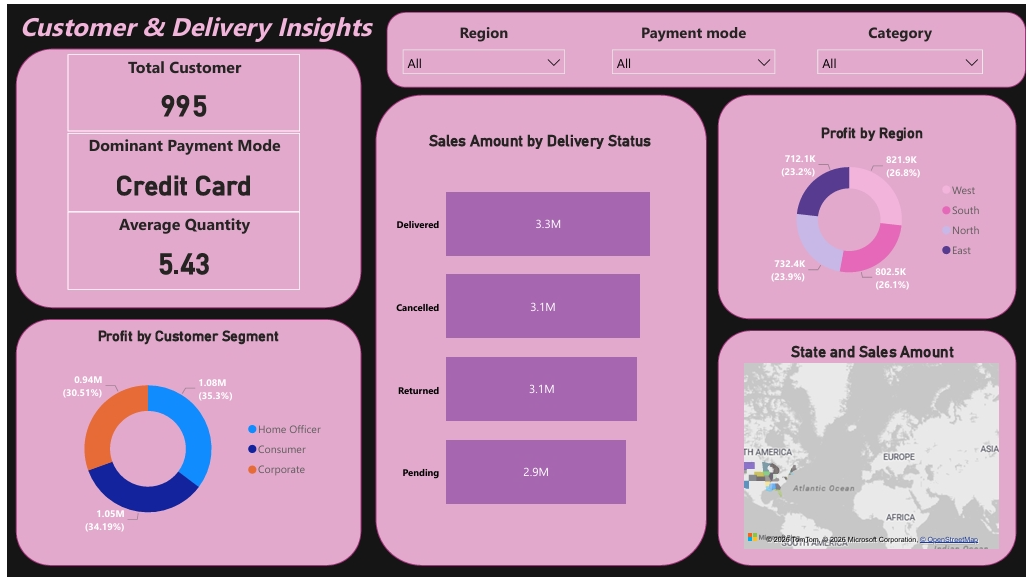

Layout of this report page (visuals, bound fields, positions):
{"tool":"powerbi","page":{"name":"Page 3","canvas":[1280,720],"ordinal":2},"visuals":[{"type":"textbox","box":[10.6,0,466.6,58.1],"z":0},{"type":"shape","box":[476.6,10.1,803.5,95],"z":1000},{"type":"slicer","title":"Region ","fields":{"Values":["Superstore_Management_System.Region"]},"box":[486.7,21.6,224.6,70.6],"z":2000},{"type":"slicer","title":"Payment mode ","fields":{"Values":["Superstore_Management_System.Payment mode"]},"box":[750.2,21.6,224.6,70.6],"z":3000},{"type":"slicer","title":"Category","fields":{"Values":["Superstore_Management_System.Category"]},"box":[1008,21.6,227.5,70.6],"z":4000},{"type":"shape","box":[10.6,56.3,434.9,325.7],"z":5000},{"type":"card","title":"Total Customer","fields":{"Values":["Count(Superstore_Management_System.Customer Name)"]},"box":[75.7,63.4,292.3,96.8],"z":6000},{"type":"card","title":"Average Quantity","fields":{"Values":["Avg(Superstore_Management_System.Quantity)"]},"box":[75.7,260.6,292.3,98.6],"z":7000},{"type":"card","title":"Dominant Payment Mode","fields":{"Values":["Superstore_Management_System.top_payment_method"]},"box":[75.7,162,292.3,98.6],"z":8000},{"type":"shape","box":[892.7,114.4,375,281.7],"z":9000},{"type":"shape","box":[463.1,114.4,415.5,591.6],"z":10000},{"type":"shape","box":[10.6,396.1,434.9,309.9],"z":11000},{"type":"shape","box":[892.7,410.2,375,295.8],"z":12000},{"type":"donutChart","title":" Profit by Region","fields":{"Category":["Superstore_Management_System.Region"],"Y":["Sum(Superstore_Management_System.Profit)"]},"box":[936.7,151.4,299.3,218.3],"z":13000},{"type":"clusteredBarChart","title":"Sales Amount by Delivery Status","fields":{"Category":["Superstore_Management_System.Delivery Status"],"Y":["Sum(Superstore_Management_System.Sales Amount)"]},"box":[482.4,160.2,375,517.6],"z":14000},{"type":"filledMap","title":"State and Sales Amount ","fields":{"Category":["Superstore_Management_System.State"],"Series":["Superstore_Management_System.Sales Amount"]},"box":[921.7,425,330,265],"z":15000},{"type":"donutChart","title":" Profit by Customer Segment","fields":{"Category":["Superstore_Management_System.Customer Segment"],"Y":["Sum(Superstore_Management_System.Profit)"]},"box":[46.7,406.7,361.7,283.3],"z":16000}]}

Visuals, with their boxes in screenshot pixels (x1, y1, x2, y2), scaled from the page's 1280x720 canvas onto the 1030x579 screenshot:
textbox: 9 0 384 47
shape: 384 8 1029 85
"Region " slicer: 392 17 572 74
"Payment mode " slicer: 604 17 784 74
"Category" slicer: 811 17 994 74
shape: 9 45 358 307
"Total Customer" card: 61 51 296 129
"Average Quantity" card: 61 210 296 289
"Dominant Payment Mode" card: 61 130 296 210
shape: 718 92 1020 319
shape: 373 92 707 568
shape: 9 319 358 568
shape: 718 330 1020 568
" Profit by Region" donutChart: 754 122 995 297
"Sales Amount by Delivery Status" clusteredBarChart: 388 129 690 545
"State and Sales Amount " filledMap: 742 342 1007 555
" Profit by Customer Segment" donutChart: 38 327 329 555
